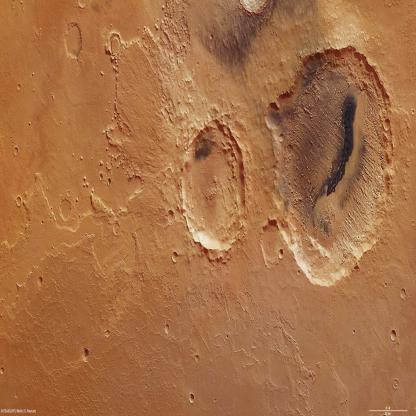craters: (254, 32, 401, 294), (178, 111, 256, 273), (250, 199, 286, 267), (52, 186, 76, 233), (60, 23, 84, 60), (102, 29, 124, 59), (394, 274, 410, 308), (163, 316, 177, 340), (274, 238, 288, 260), (387, 328, 405, 345), (185, 390, 199, 408)
